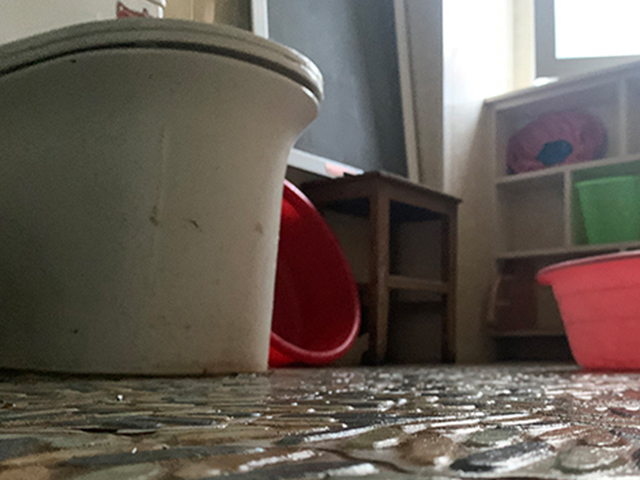closestool: (1, 1, 324, 377)
stool: (304, 169, 465, 365)
